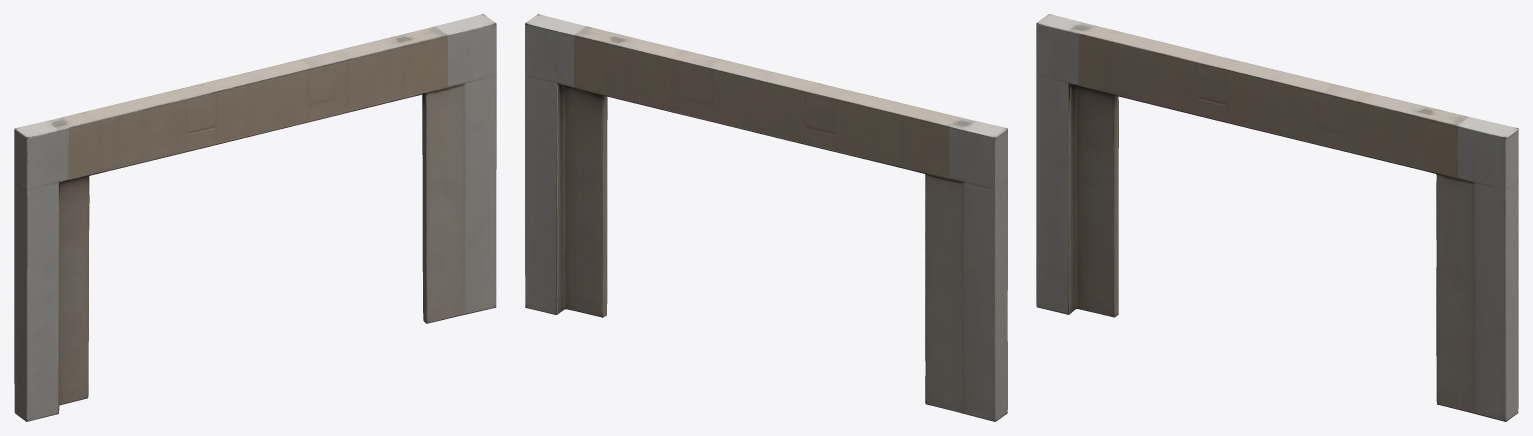
File: laptop_open_city.glb
3 views of the same model, side by side, from view 1: azimuth 30°, elevation 25°; view 2: azimuth 150°, elevation 25°; view 3: azimuth 330°, elevation 25° (orthographic).
Parts seen in each view (by area): view 1: geometry_0; view 2: geometry_0; view 3: geometry_0.
Boxes of the visible parts, x1,y1,x2,y2 form: geometry_0: (14, 14, 496, 421); geometry_0: (525, 14, 1007, 421); geometry_0: (1036, 14, 1518, 421).
Size of the model in its own units: 1 by 0.5791 by 0.0488.
Materials: 1 (1 with a texture image).
